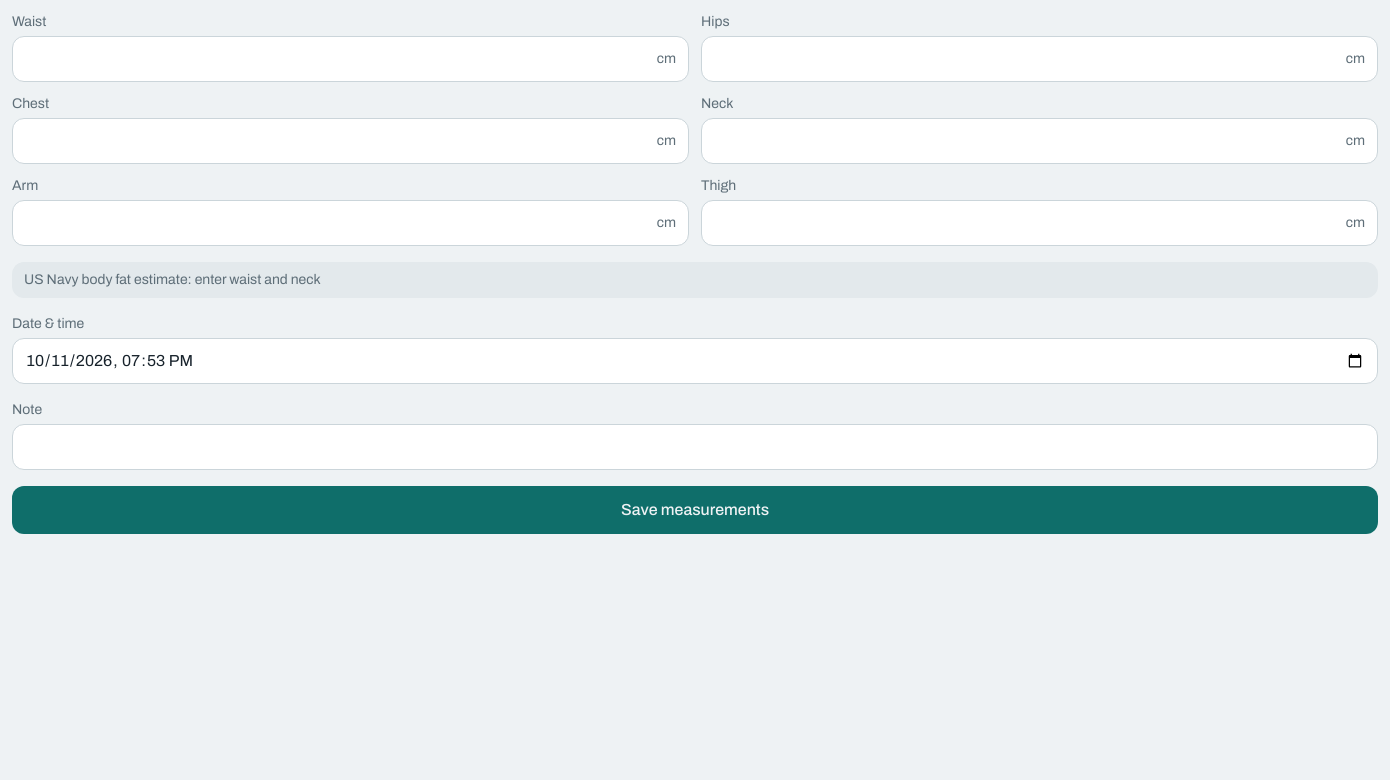
MeasurementForm › previews Navy body fat once waist and neck are entered
The width and height of the screenshot is (1390, 780).
Type "85" into the field labelled "Waist" at coordinates (337, 59), box [25,37,649,81]
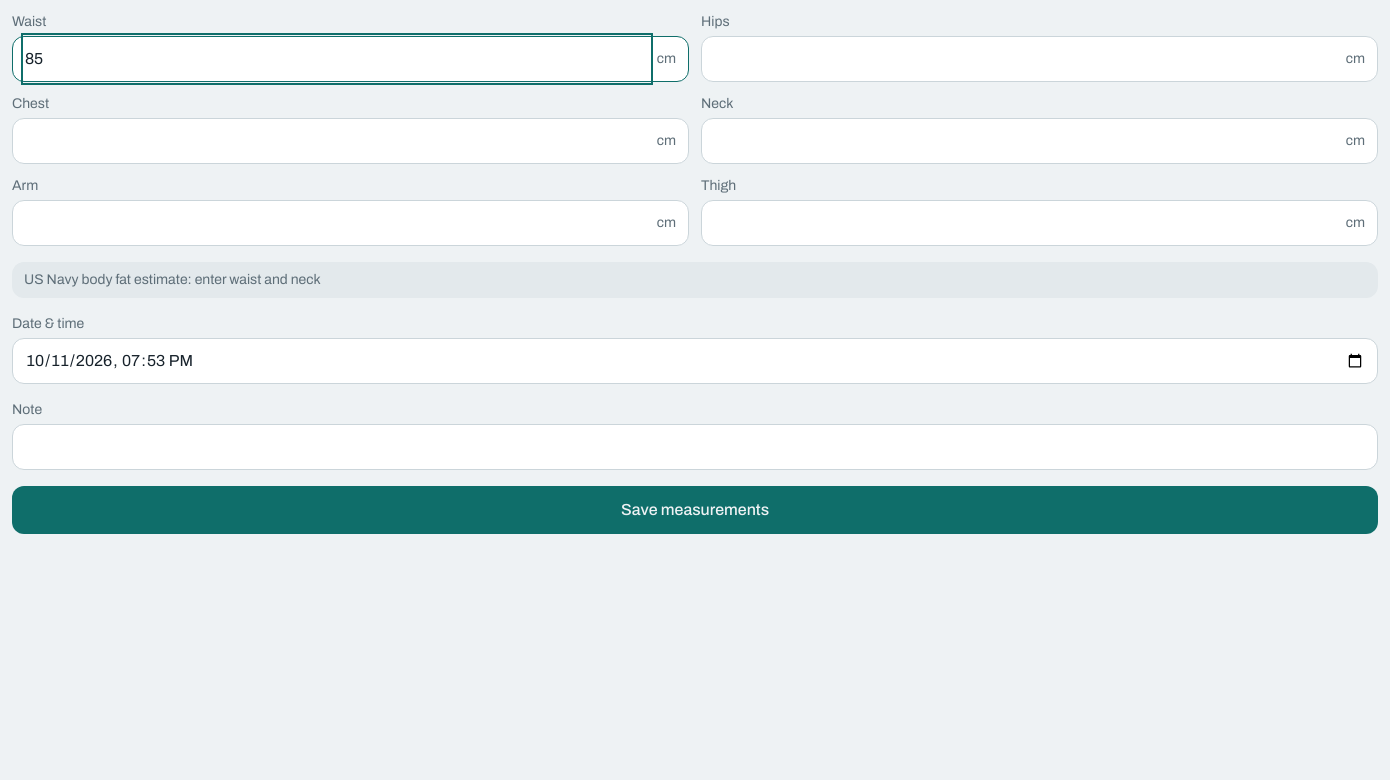
Type "38" into the field labelled "Neck" at coordinates (1026, 141), box [714,119,1338,163]
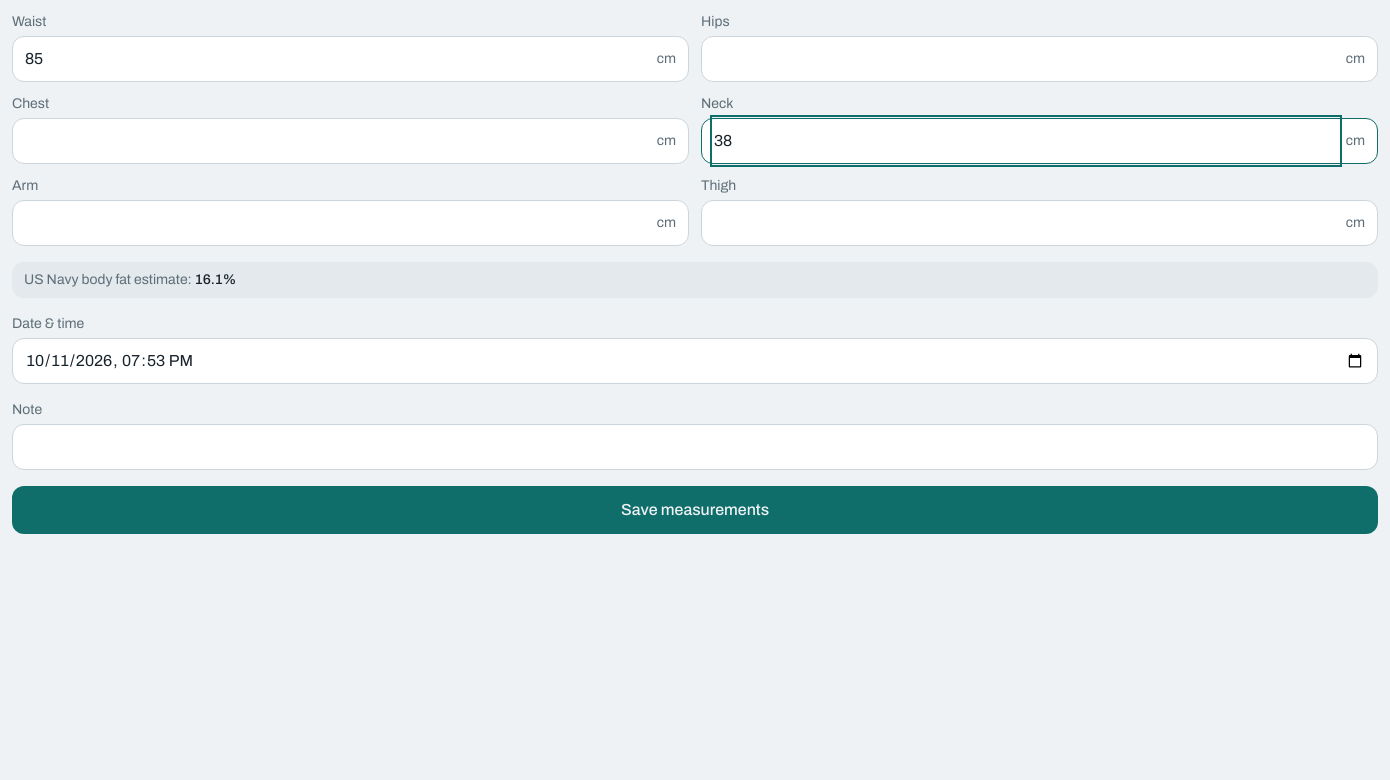
Check: the text "16.1%" is shown, box [195,272,236,287]
